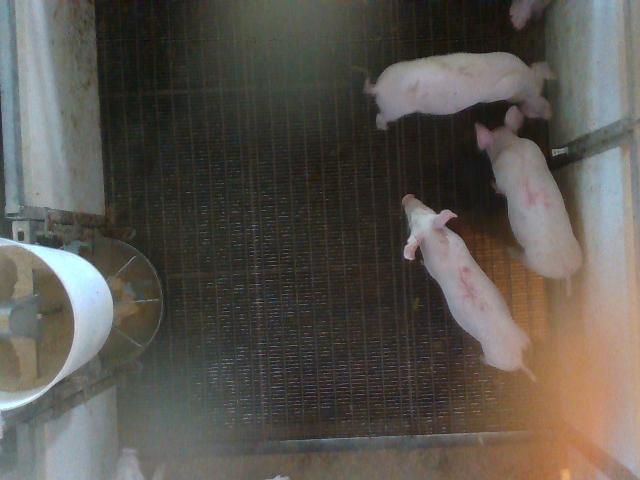pig-4: (475, 106, 581, 278)
pig-5: (404, 198, 530, 374)
